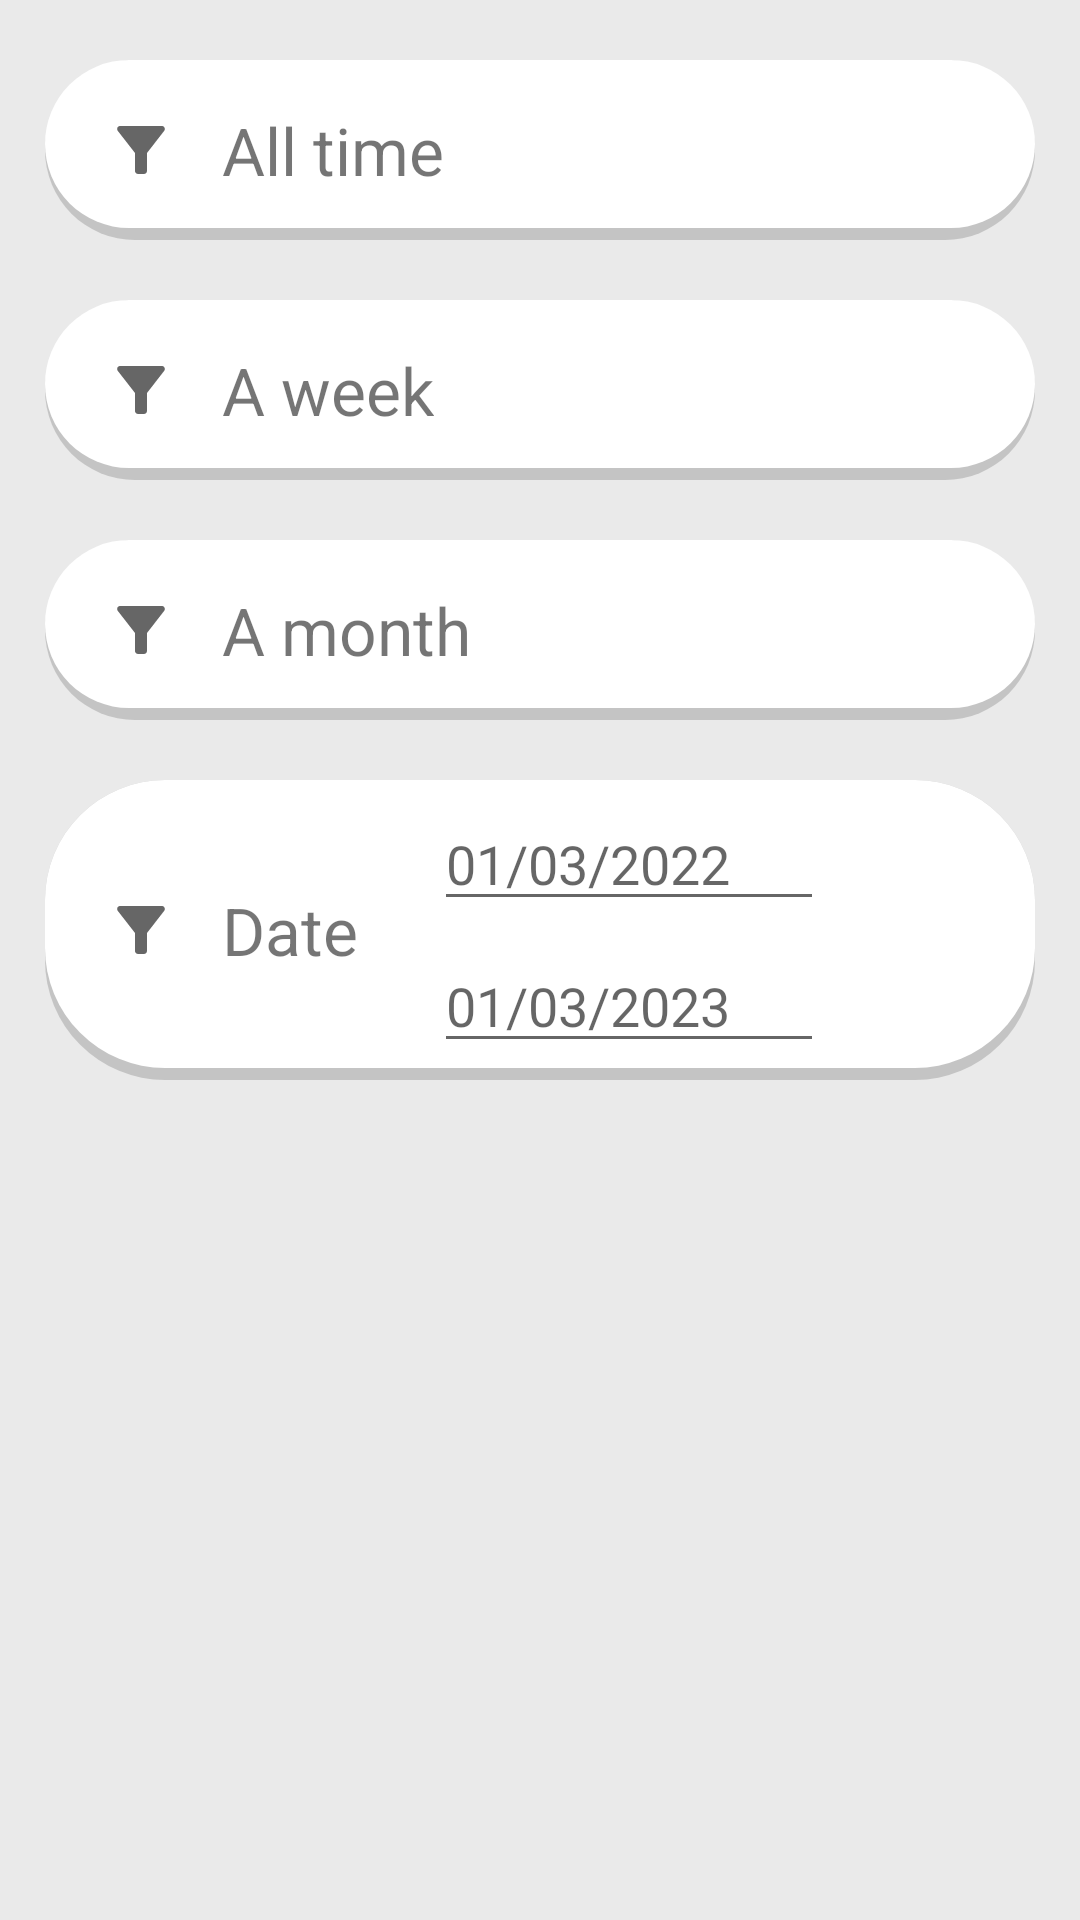

Named icons in this screenshot (1080×1920) and their centers, point (x, y):
filter: point (141, 150), point (141, 390), point (141, 630), point (141, 930)
